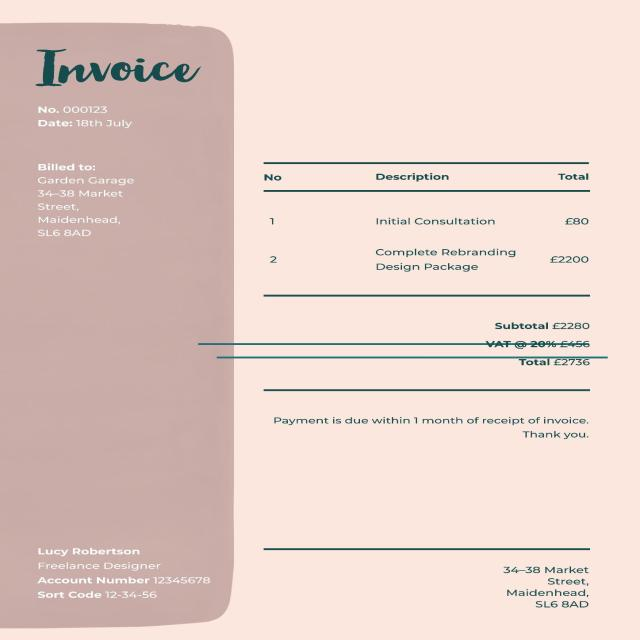paragraph: (29, 543, 213, 609), (270, 417, 592, 448), (32, 160, 137, 238), (28, 46, 206, 91), (484, 320, 612, 380), (497, 564, 599, 610), (32, 105, 133, 134)
table: (251, 161, 608, 299)
